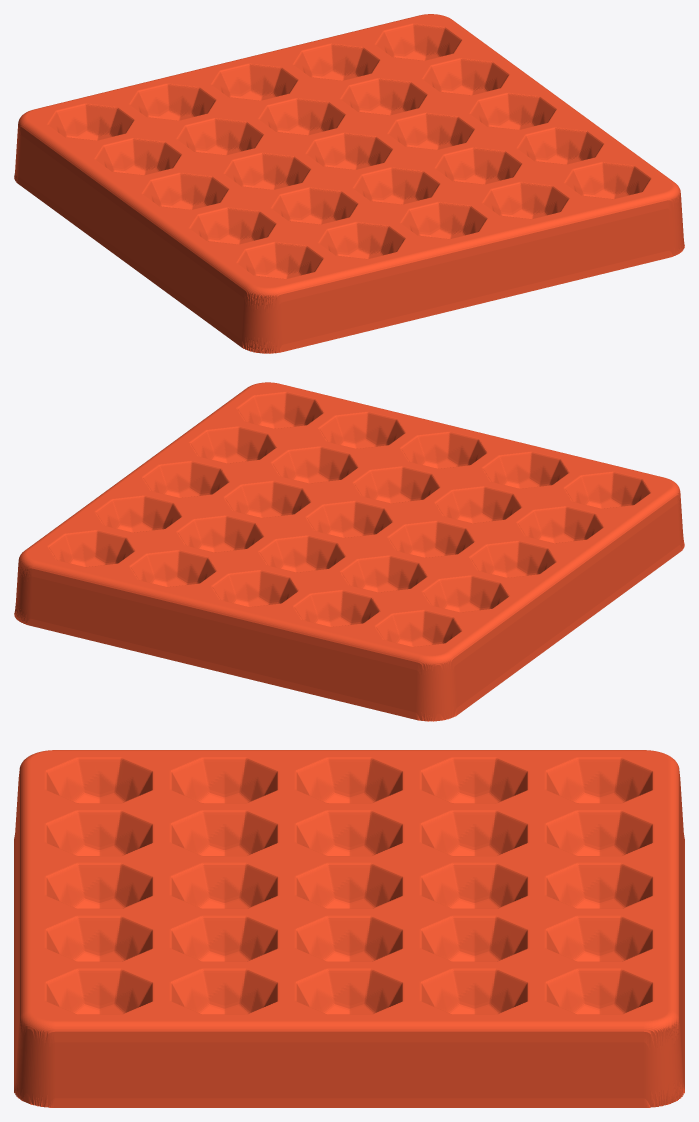
Rendered from mold.glb.
3 views of the same model, one above another, from view 1: azimuth 30°, elevation 25°; view 2: azimuth 150°, elevation 25°; view 3: azimuth 270°, elevation 25° (orthographic). The views are drawn at different scales.
Visible parts, largest first — view 1: geometry_0; view 2: geometry_0; view 3: geometry_0.
Part boxes in pixels (box(x1,y1,x2,y2)): geometry_0: box(14, 14, 684, 353); geometry_0: box(14, 382, 684, 721); geometry_0: box(14, 750, 684, 1107).
Bounding box in the file's own units: 0.148 × 0.0195 × 0.148.
